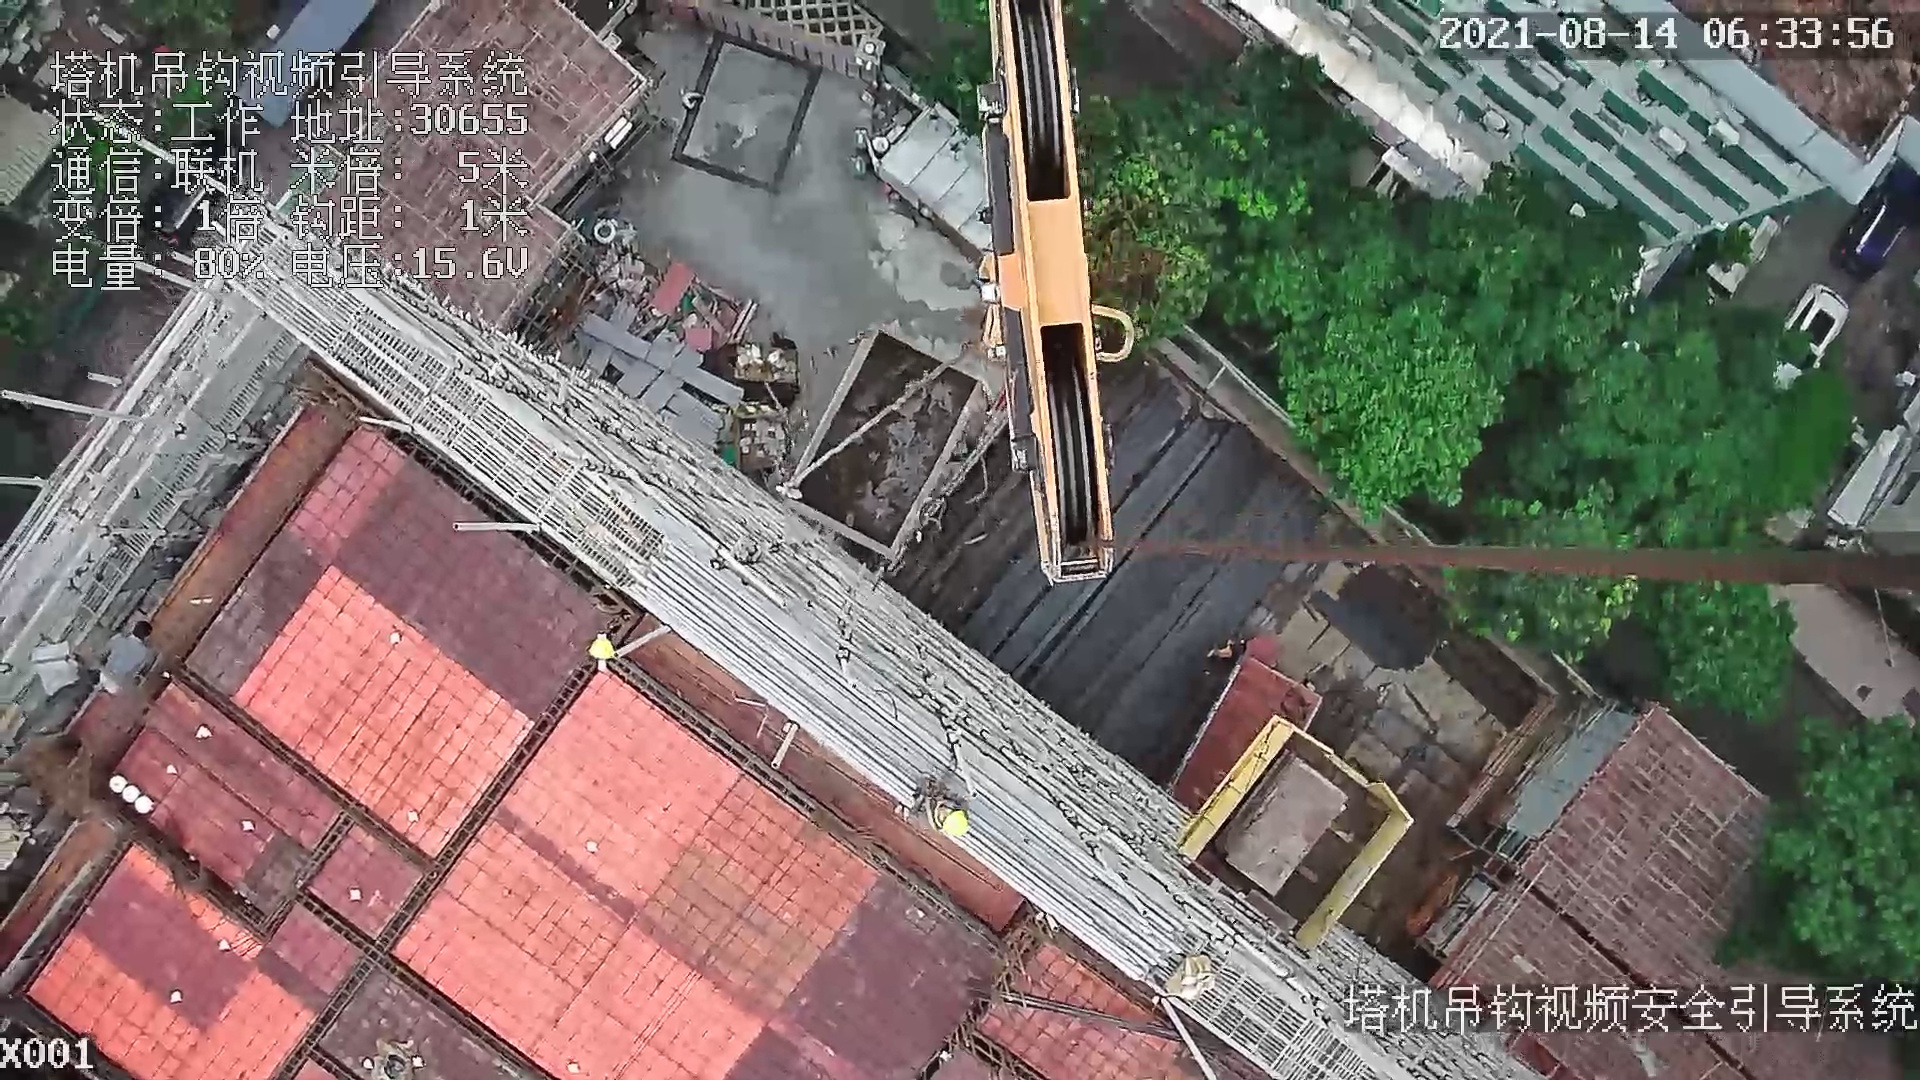helmet: (938, 810, 973, 836), (585, 635, 615, 659)
hook: (963, 5, 1135, 580)
hopper: (786, 317, 986, 569)
person: (908, 753, 979, 837)
